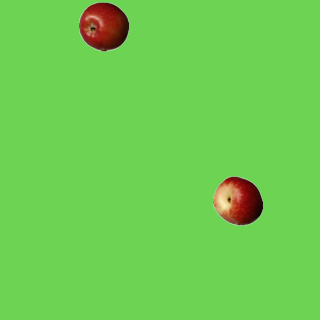Apple Braeburn: (78, 1, 128, 51)
Nectarine: (212, 175, 262, 225)
